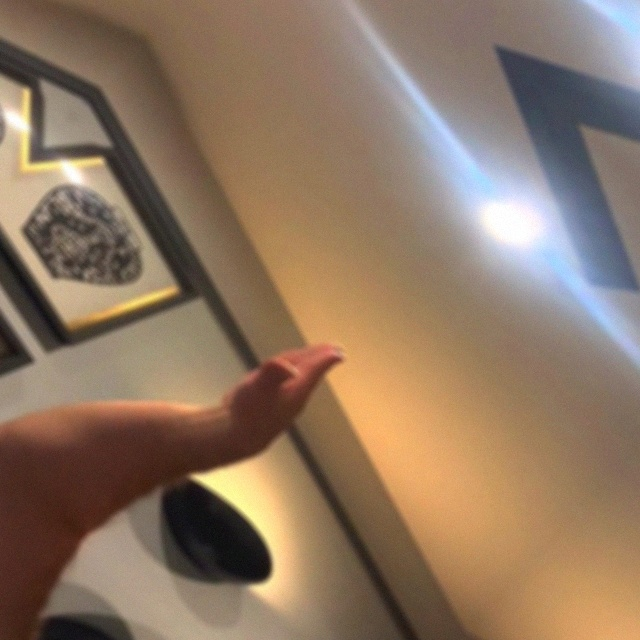Paper: (210, 306, 357, 456)
